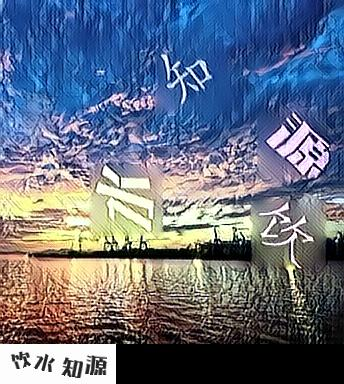character: (261, 111, 334, 181), (254, 200, 321, 272), (92, 162, 158, 234), (159, 52, 216, 110)
